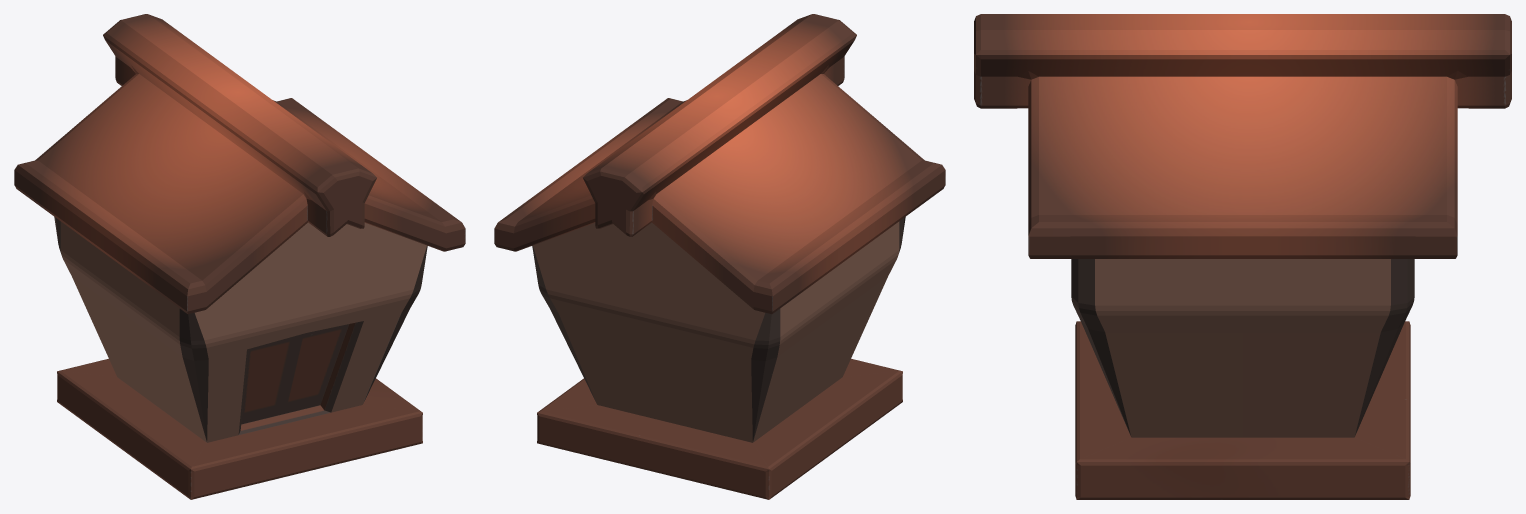
The model's file is HouseModel.fbx.
3 views of the same model, side by side, from view 1: azimuth 30°, elevation 25°; view 2: azimuth 150°, elevation 25°; view 3: azimuth 270°, elevation 25° (orthographic). The views are drawn at different scales.
Parts seen in each view (by area): view 1: Cube; view 2: Cube; view 3: Cube.
Boxes of the visible parts, box(x1,y1,x2,y2) form: Cube: box(14, 14, 465, 499); Cube: box(494, 14, 945, 499); Cube: box(974, 14, 1511, 499).
Bounding box in the file's own units: 358 × 404 × 482.
